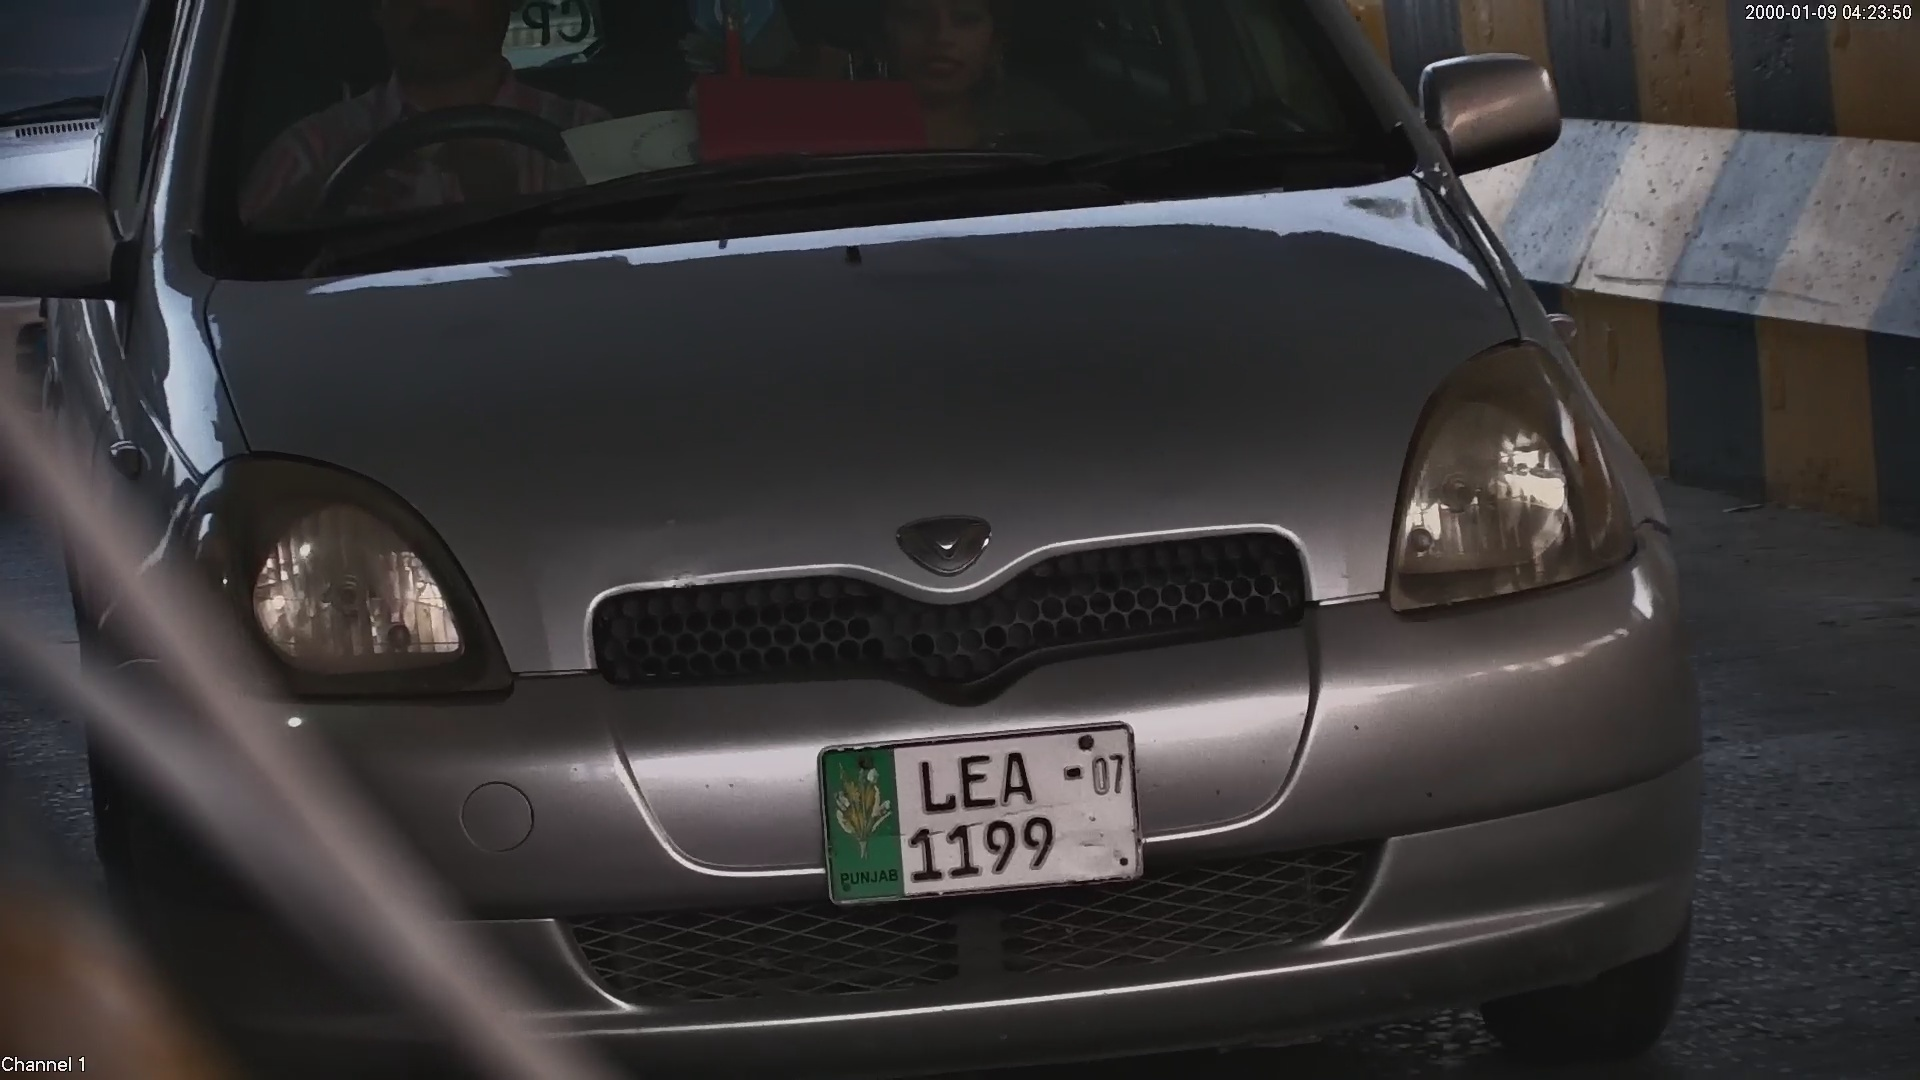Number_Plate: (797, 707, 1156, 896)
